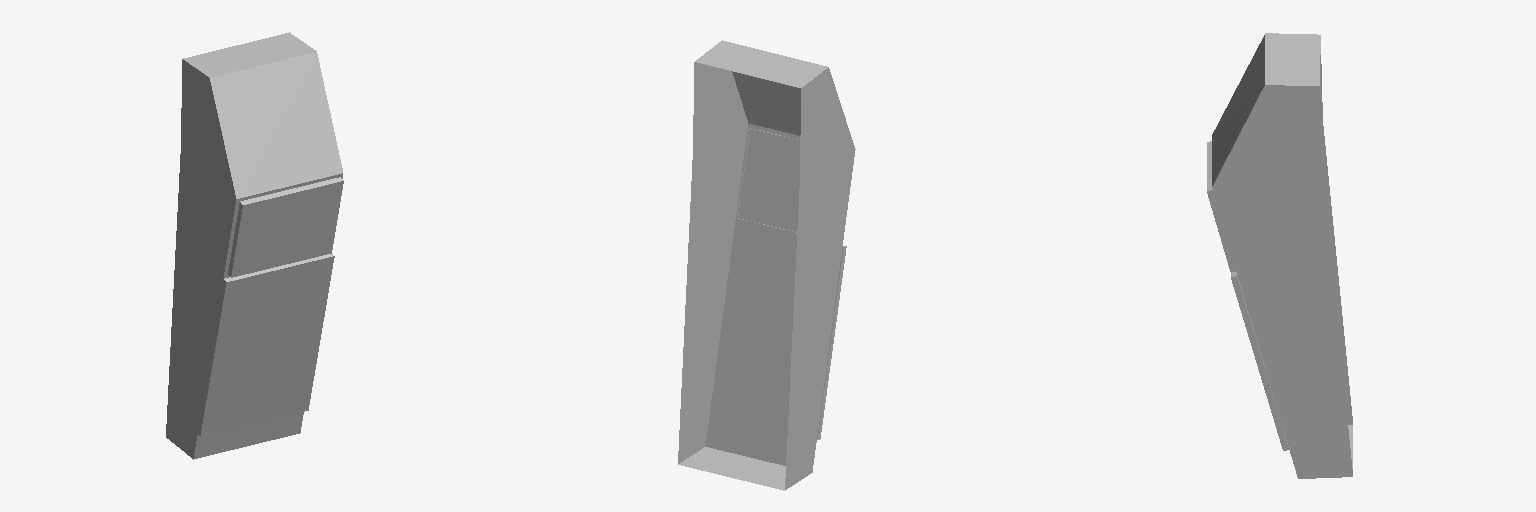
The model's file is mainframe system.obj.
3 renders of one model, left to right at view 1: azimuth 30°, elevation 25°; view 2: azimuth 150°, elevation 25°; view 3: azimuth 270°, elevation 25°, orthographic.
Visible parts, largest first — view 1: Cube.002; view 2: Cube.002; view 3: Cube.002.
Part boxes in pixels (bbox=[...]): Cube.002: bbox=[166, 32, 343, 459]; Cube.002: bbox=[678, 40, 855, 490]; Cube.002: bbox=[1207, 33, 1352, 478].
Bounding box in the file's own units: 0.8525 × 2.97 × 1.